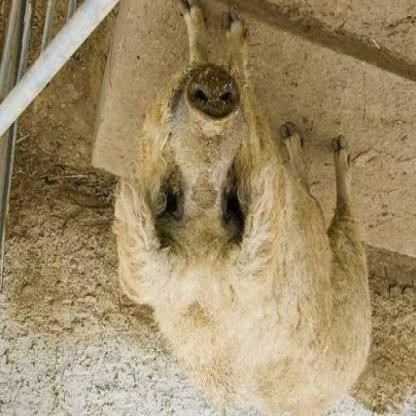boar: (73, 43, 415, 416)
